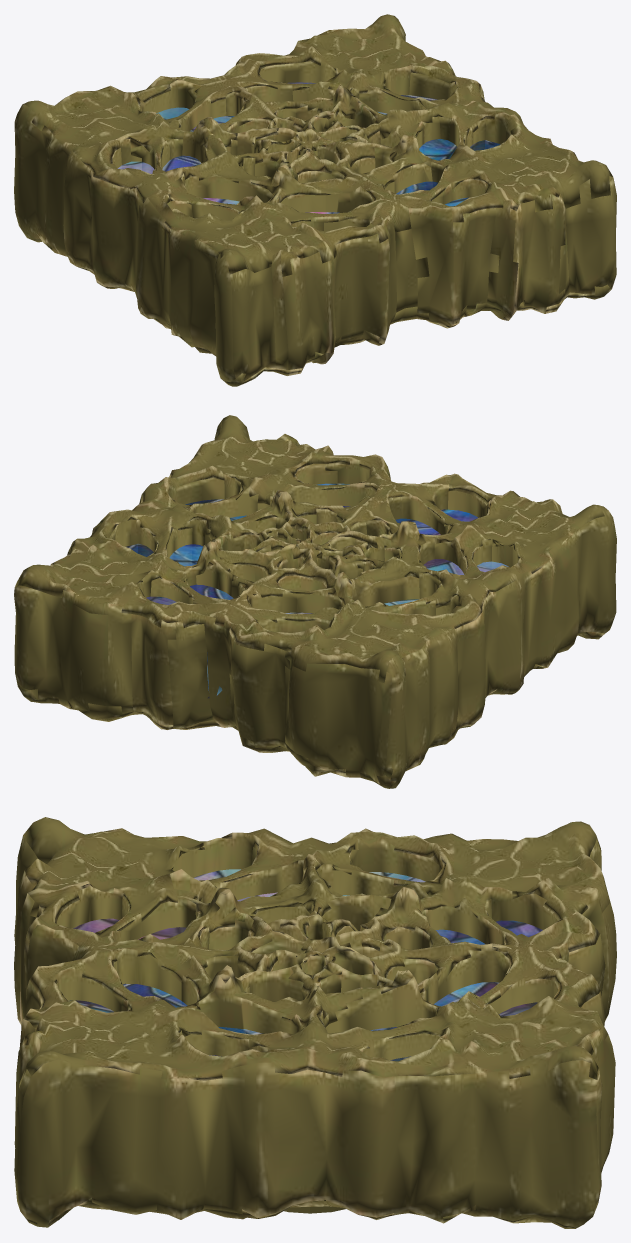
The model's file is tile003V2_lowPolyCompressed.glb.
3 views of the same model, one above another, from view 1: azimuth 30°, elevation 25°; view 2: azimuth 150°, elevation 25°; view 3: azimuth 270°, elevation 25° (orthographic). The views are drawn at different scales.
Parts seen in each view (by area): view 1: tile3.002; view 2: tile3.002; view 3: tile3.002.
Boxes of the visible parts, x1=… form: tile3.002: x1=14, y1=14, x2=616, y2=386; tile3.002: x1=14, y1=415, x2=616, y2=788; tile3.002: x1=14, y1=817, x2=616, y2=1228.
Size of the model in its own units: 1 by 0.4785 by 1.01.
3 materials, 3 textured.
